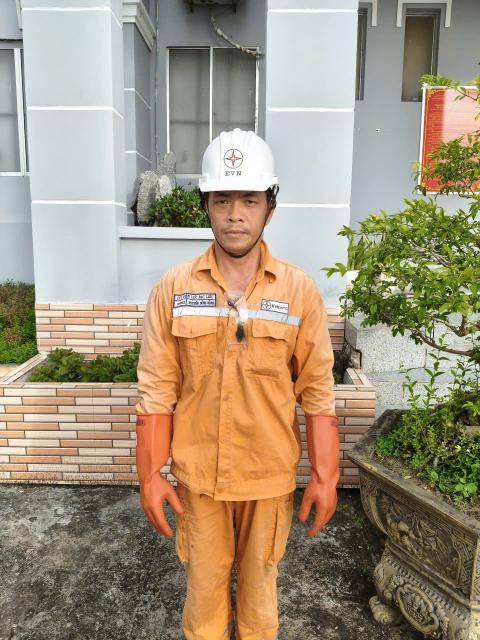gloves: (105, 384, 196, 549), (273, 384, 362, 550)
helmet: (167, 116, 312, 205)
